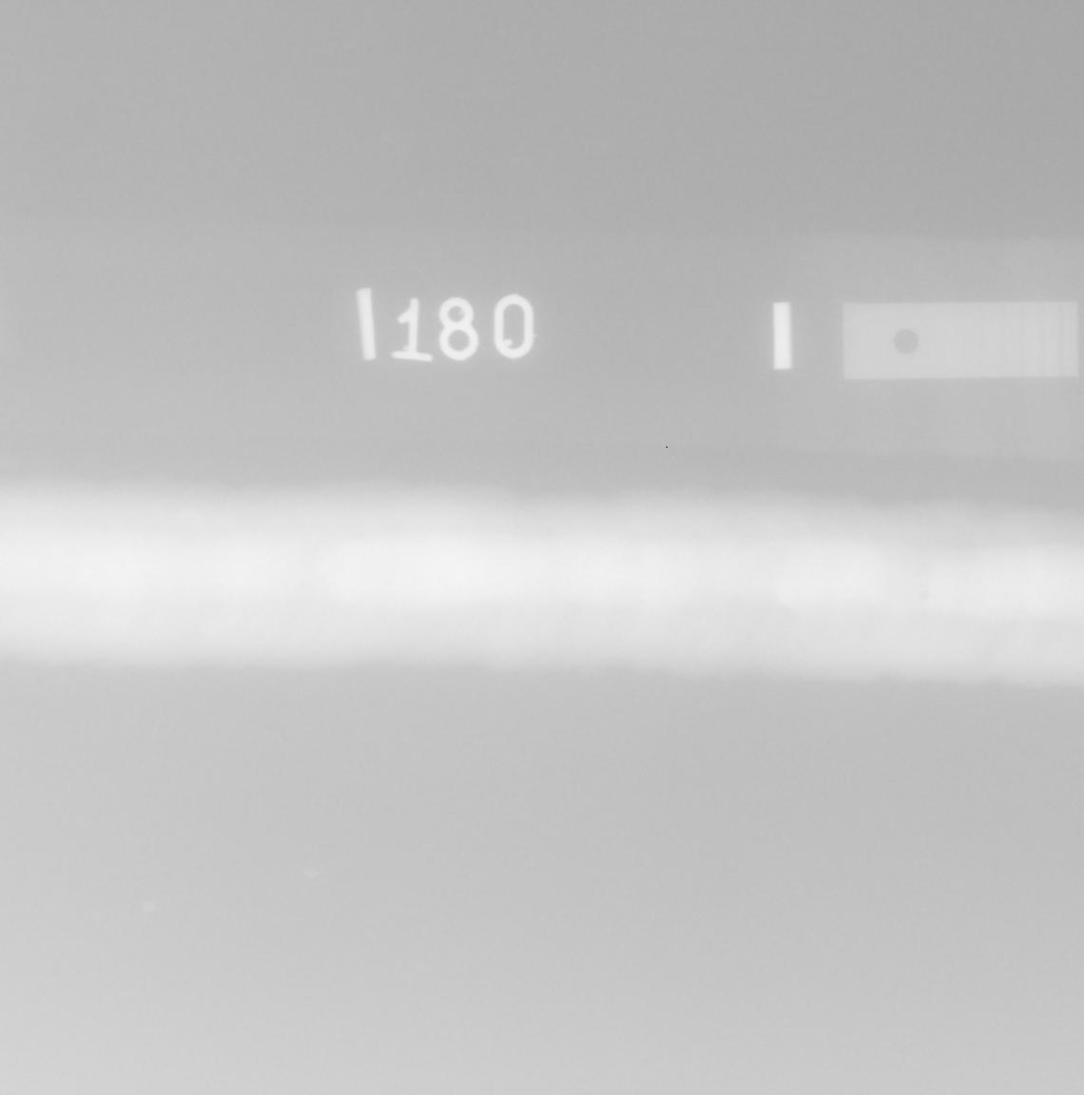Pore/Porosity: (921, 591, 929, 599), (299, 581, 305, 588), (920, 612, 926, 618), (639, 600, 644, 606)
Reference Standard 1: (842, 301, 1079, 380)
